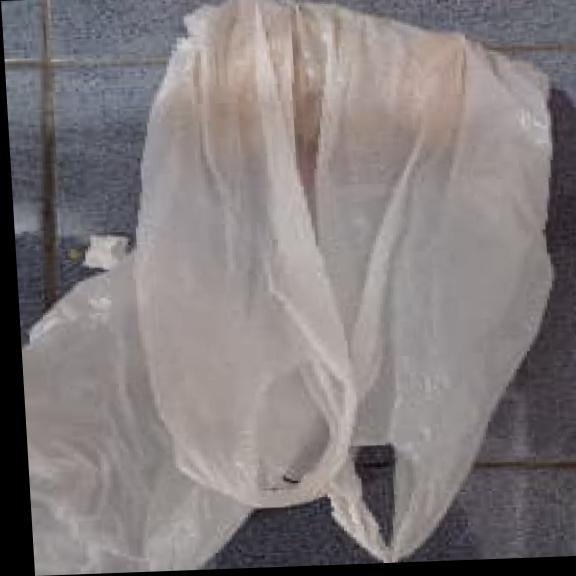Plastik: (24, 0, 553, 575)
